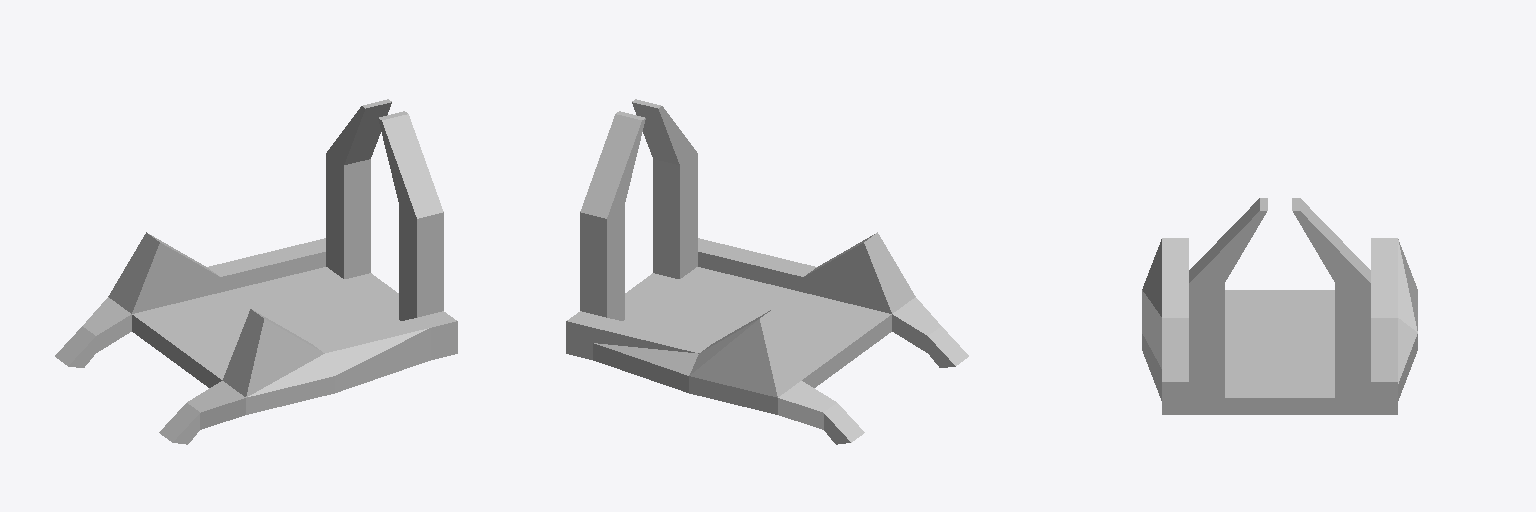
Rendered from Platform17.obj.
The picture shows the model from 3 angles: view 1: azimuth 30°, elevation 25°; view 2: azimuth 150°, elevation 25°; view 3: azimuth 270°, elevation 25°; orthographic projection.
Parts seen in each view (by area): view 1: Platform17; view 2: Platform17; view 3: Platform17.
Part boxes in pixels (left/top/right/bottom): Platform17: left=55, top=99, right=457, bottom=444; Platform17: left=566, top=99, right=968, bottom=444; Platform17: left=1142, top=198, right=1417, bottom=414.
Bounding box in the file's own units: 17.21 × 13.22 × 14.42.